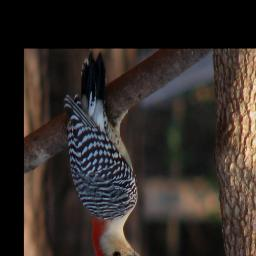Woodpecker: (63, 56, 162, 256)
